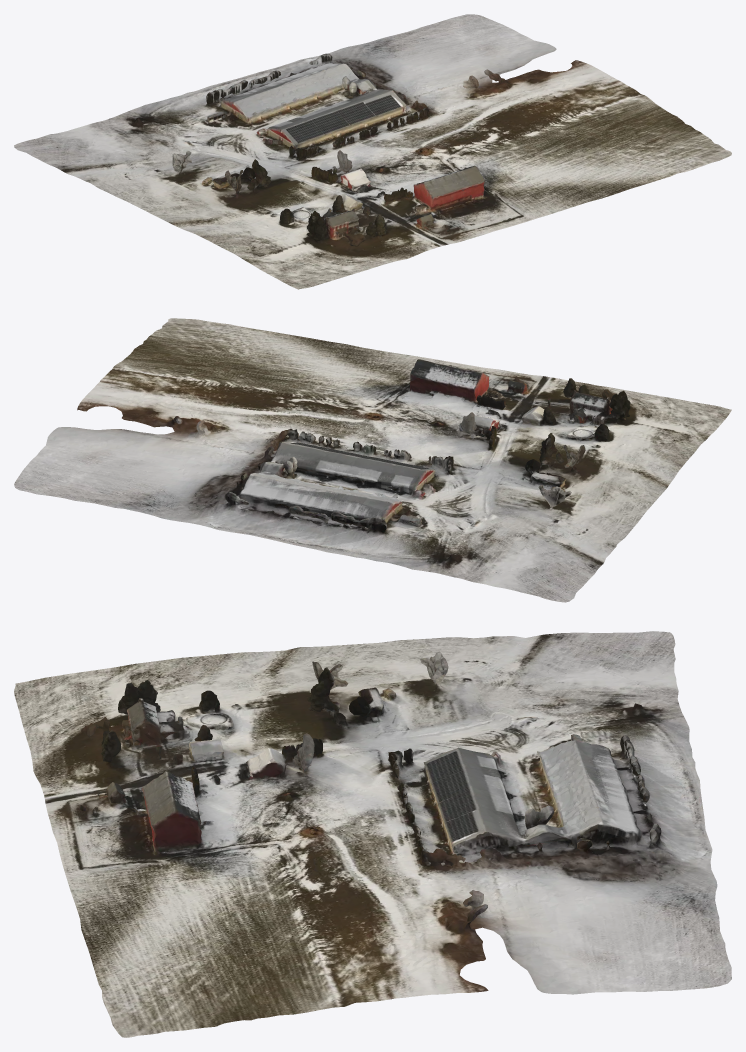
Rendered from optimized_farm.glb.
3 renders of one model, top to bottom at view 1: azimuth 30°, elevation 25°; view 2: azimuth 150°, elevation 25°; view 3: azimuth 270°, elevation 25°, orthographic. The views are drawn at different scales.
Parts seen in each view (by area): view 1: mesh_out_node_texture_material_0; view 2: mesh_out_node_texture_material_0; view 3: mesh_out_node_texture_material_0.
Part boxes in pixels (bbox=[...]): mesh_out_node_texture_material_0: bbox=[14, 14, 731, 289]; mesh_out_node_texture_material_0: bbox=[14, 318, 731, 602]; mesh_out_node_texture_material_0: bbox=[14, 631, 731, 1037].
Size of the model in its own units: 291 by 23.8 by 223.
1 material, 1 textured.
